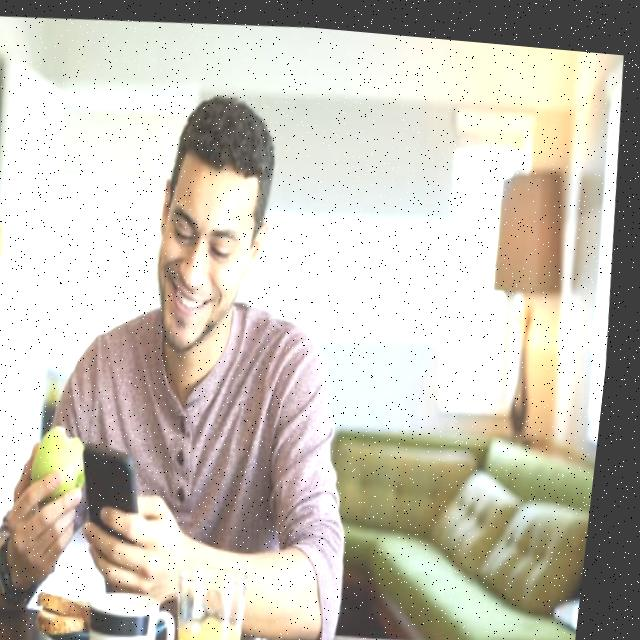eating-person: (0, 46, 403, 640)
